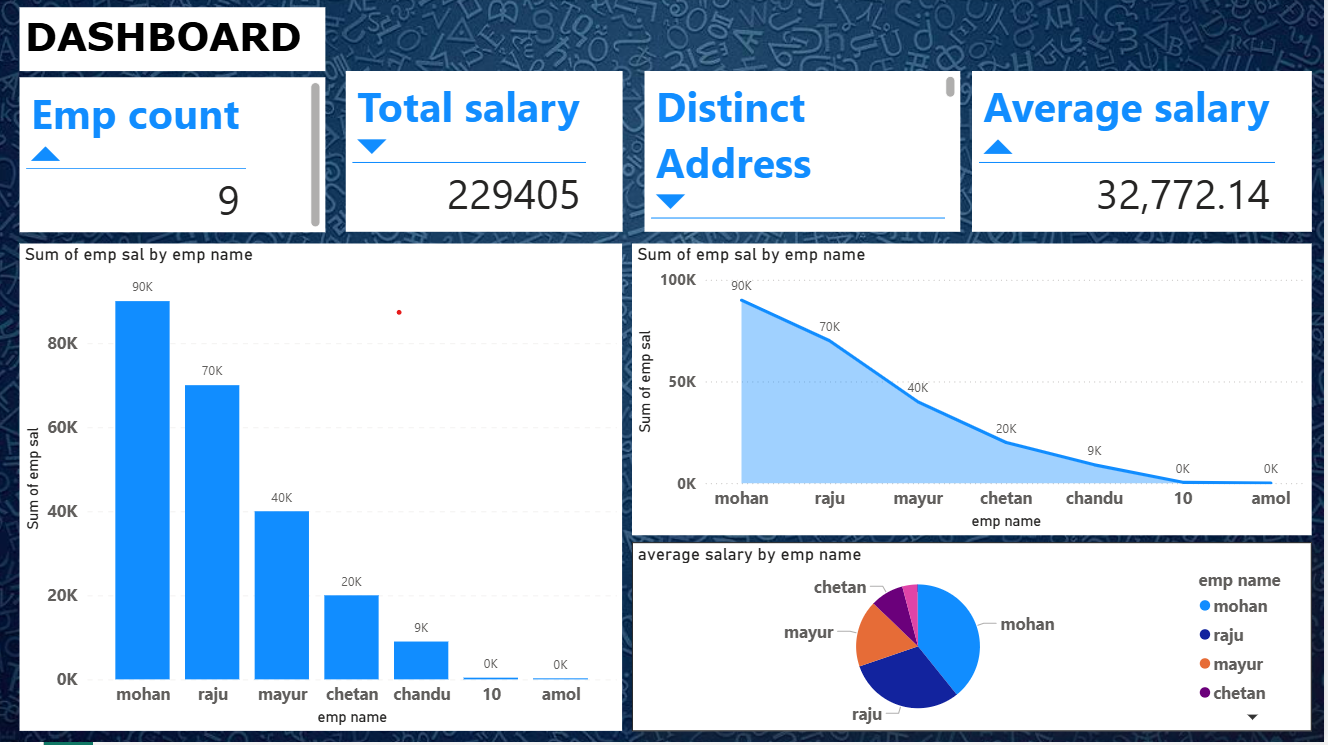

The dashboard page shown, as its layout file describes it:
{"tool":"powerbi","page":{"name":"Page 1","canvas":[1280,720],"ordinal":0},"visuals":[{"type":"tableEx","fields":{"Values":["Sheet1.emp count"]},"box":[22,78.2,295,149.6],"z":0},{"type":"tableEx","fields":{"Values":["Sheet1.total sal"]},"box":[336.2,72.7,267.6,155.1],"z":1000},{"type":"tableEx","fields":{"Values":["Sheet1.distinct address"]},"box":[624.4,72.7,304.6,155.1],"z":2000},{"type":"tableEx","fields":{"Values":["Sheet1.average salary"]},"box":[941.3,72.7,328,155.1],"z":3000},{"type":"lineChart","fields":{"Category":["Sheet1.emp name"],"Y":["Sheet1.emp sal"]},"box":[613.4,238.8,655.9,281.3],"z":4000},{"type":"clusteredColumnChart","fields":{"Category":["Sheet1.emp name"],"Y":["Sheet1.emp sal"]},"box":[22,238.8,581.8,470.7],"z":5000},{"type":"pieChart","fields":{"Y":["Sheet1.average salary"],"Category":["Sheet1.emp name"]},"box":[613.4,526.9,655.9,182.5],"z":6000},{"type":"textbox","box":[22,11,295,61.7],"z":7000}]}

Visuals, with their boxes in screenshot pixels (x1, y1, x2, y2), scaled from the page's 1280x720 canvas onto the 1328x745 screenshot:
tableEx - Sheet1.emp count: left=23, top=81, right=329, bottom=236
tableEx - Sheet1.total sal: left=349, top=75, right=626, bottom=236
tableEx - Sheet1.distinct address: left=648, top=75, right=964, bottom=236
tableEx - Sheet1.average salary: left=977, top=75, right=1317, bottom=236
lineChart - Sheet1.emp name x Sheet1.emp sal: left=636, top=247, right=1317, bottom=538
clusteredColumnChart - Sheet1.emp name x Sheet1.emp sal: left=23, top=247, right=626, bottom=734
pieChart - Sheet1.average salary x Sheet1.emp name: left=636, top=545, right=1317, bottom=734
textbox: left=23, top=11, right=329, bottom=75
